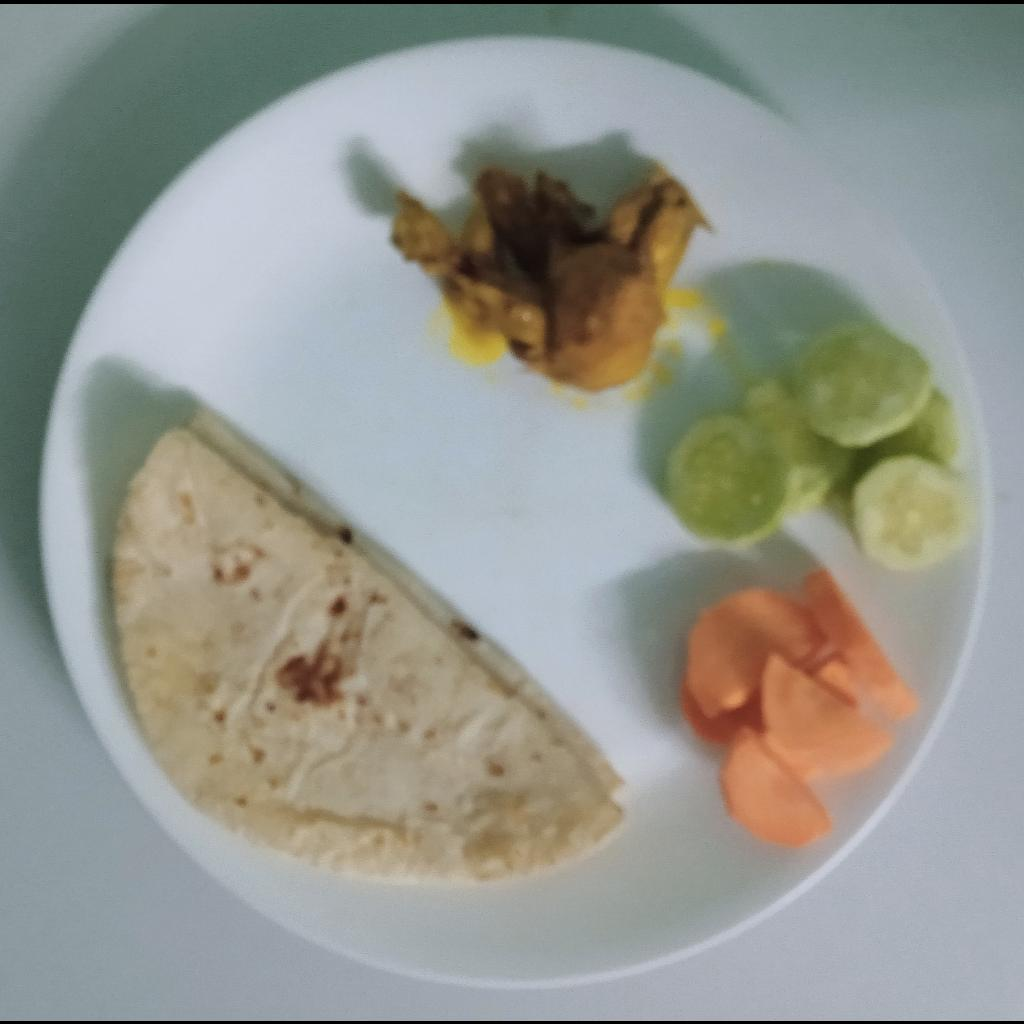carrot: (681, 570, 916, 847)
chicken: (389, 158, 715, 395)
cucumber: (664, 322, 971, 574)
ruti: (114, 407, 629, 885)
